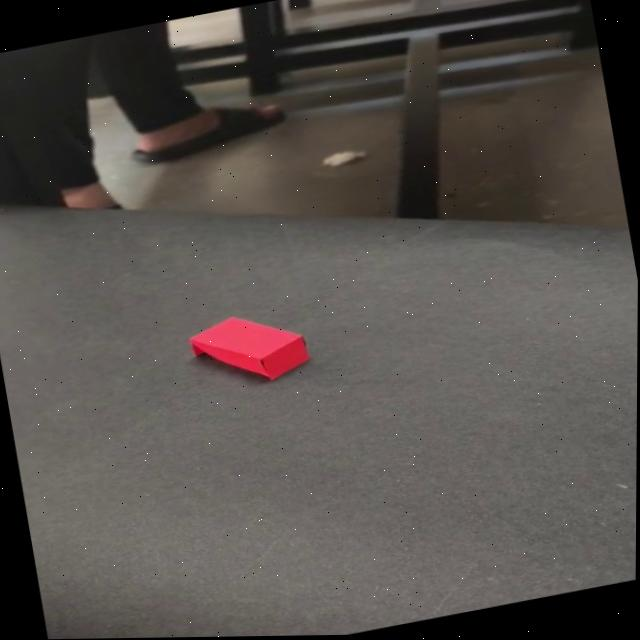red block: (184, 300, 314, 393)
